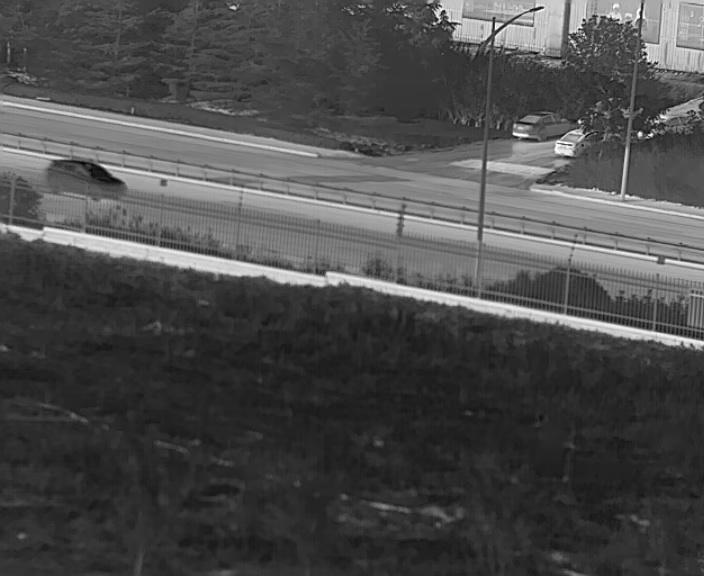vehicle: (41, 158, 128, 200), (512, 111, 568, 141), (553, 129, 588, 159)
